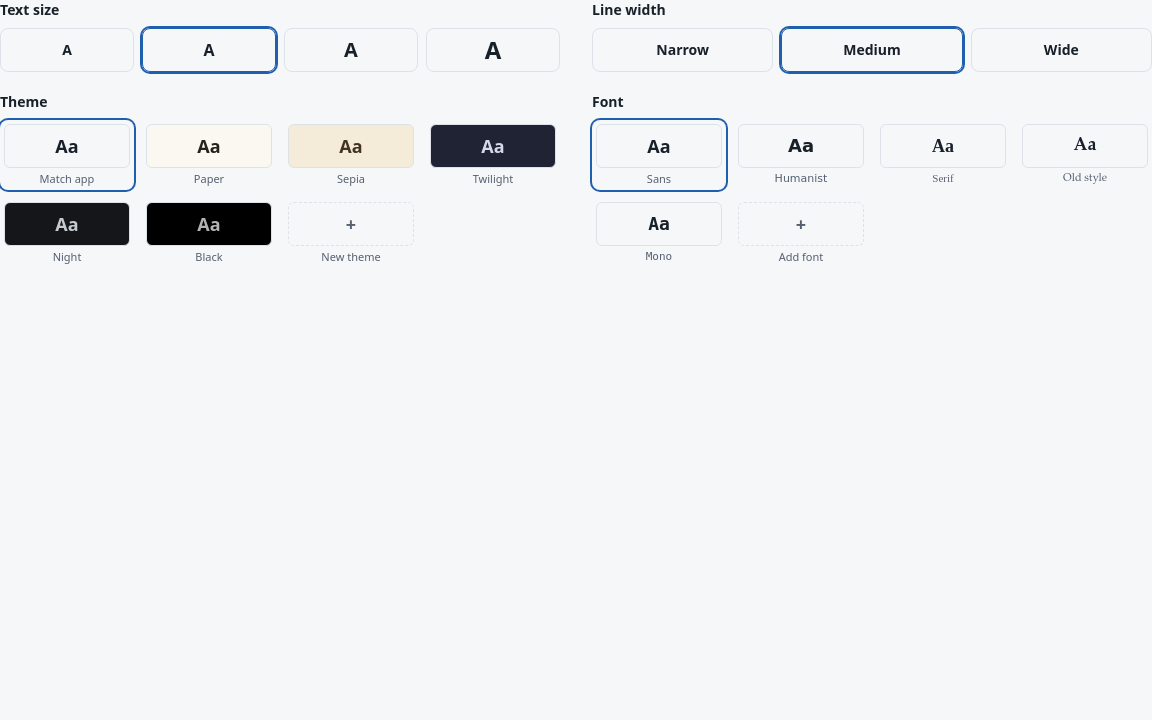
Test case: ReaderSettings › themes › offers Delete only for the selected custom theme
The image size is (1152, 720).
Step 1. Click the button "+ New theme" → (351,233), box [284,198,418,268]
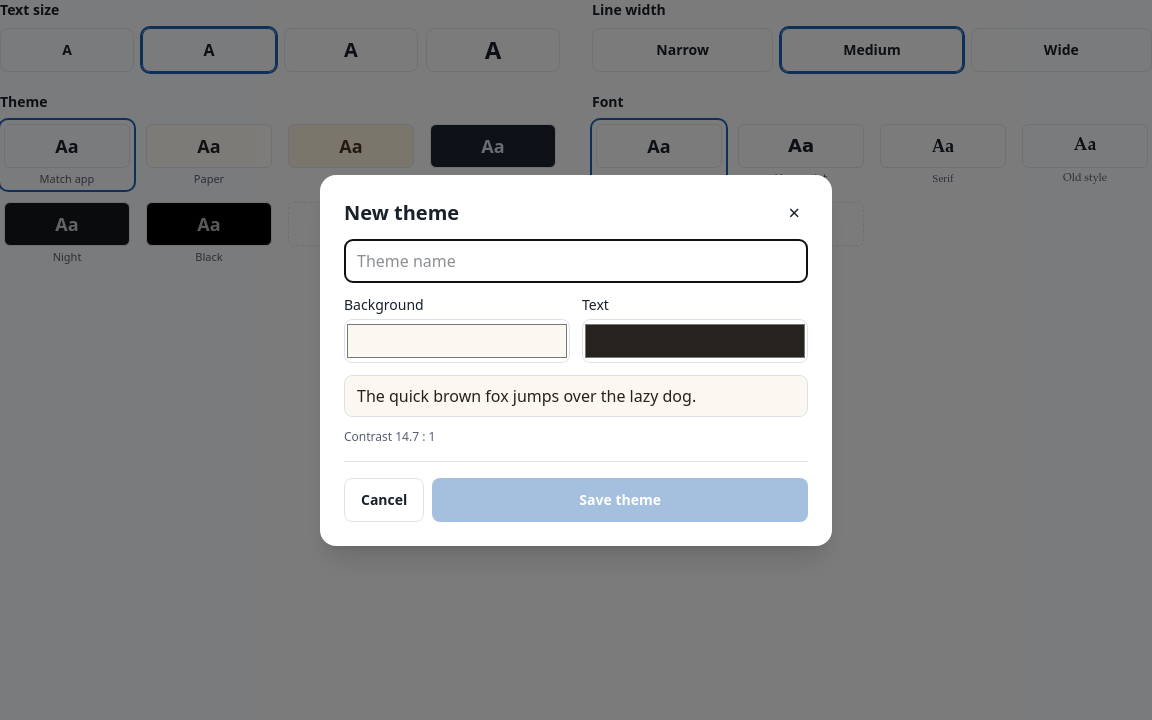
Step 2. Type "Mine" into the field labelled "Theme name" → (576,260), box [344,238,808,282]
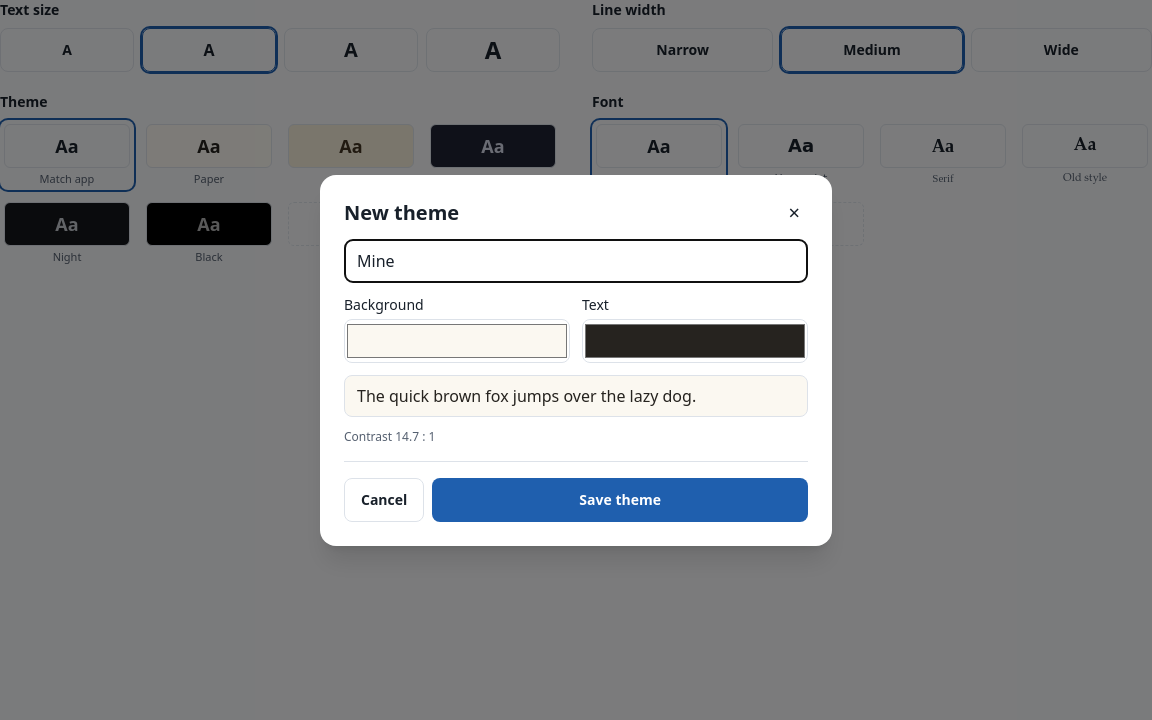
Step 3. Click the button "Save theme" → (620,500), box [432,478,808,522]
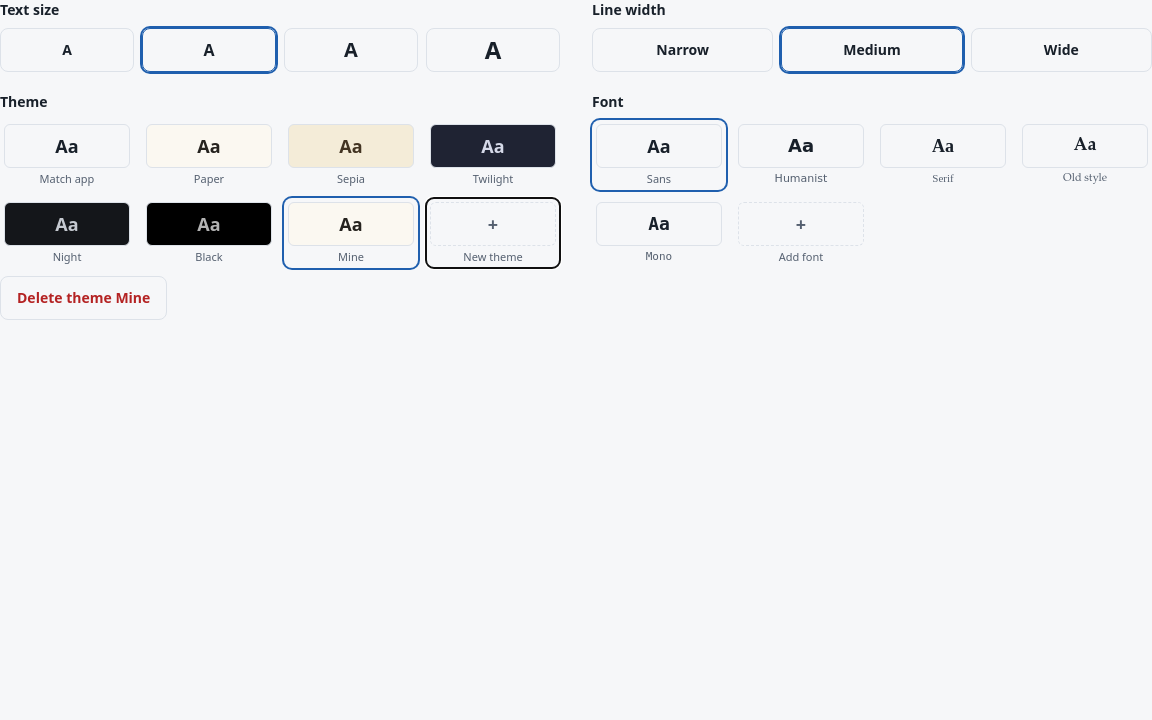
Now the button "Delete theme Mine" is shown, box [0,276,167,320]
Step 4. Click the button "Aa Paper" → (209,155), box [142,120,276,190]
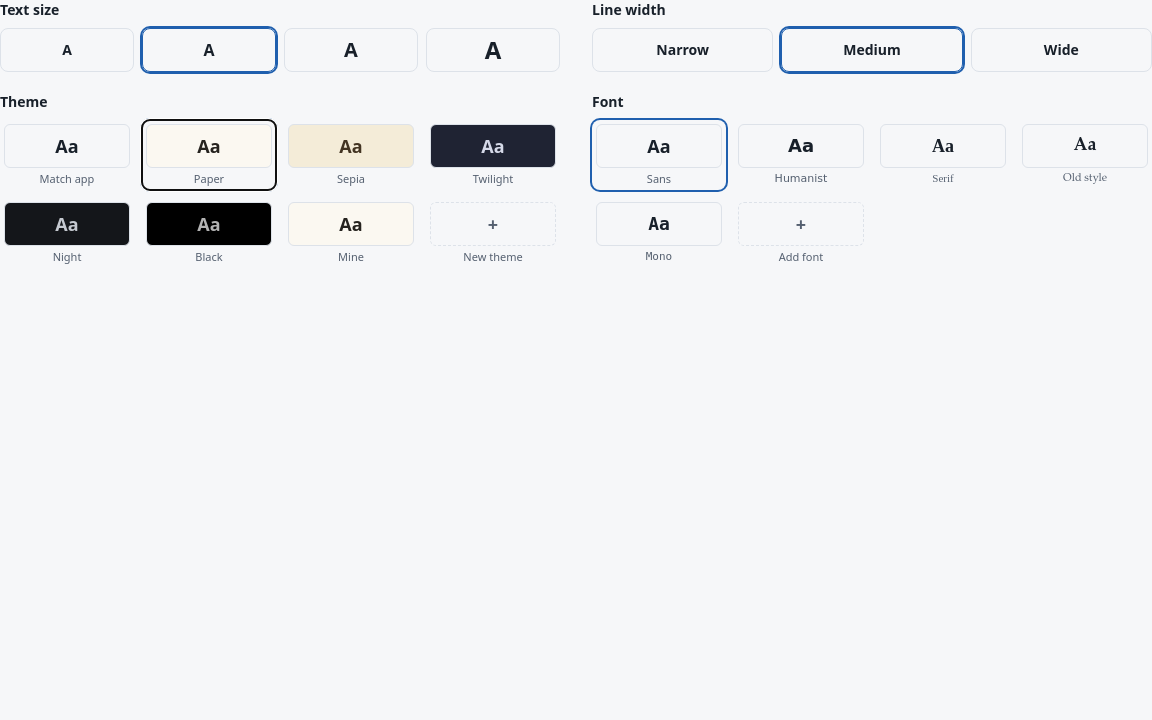
Now the button "Delete theme Mine" is gone
Step 5. Click the button "Aa Mine" → (351,233), box [284,198,418,268]
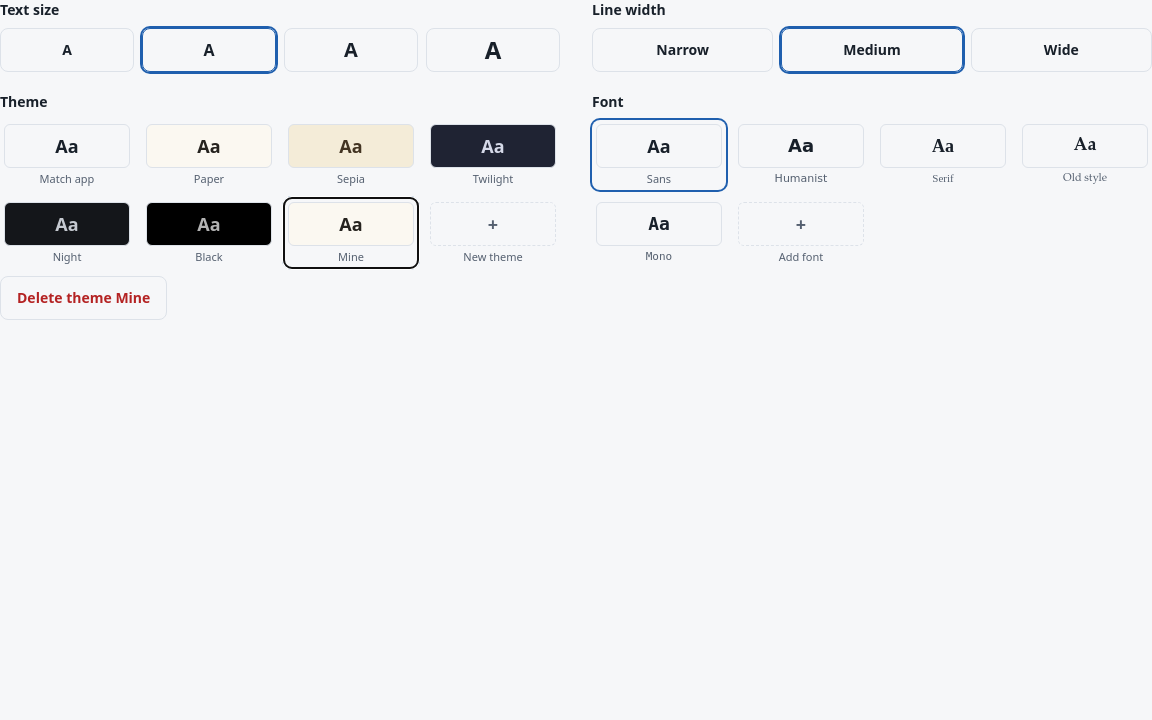
Now the button "Delete theme Mine" is shown, box [0,276,167,320]
